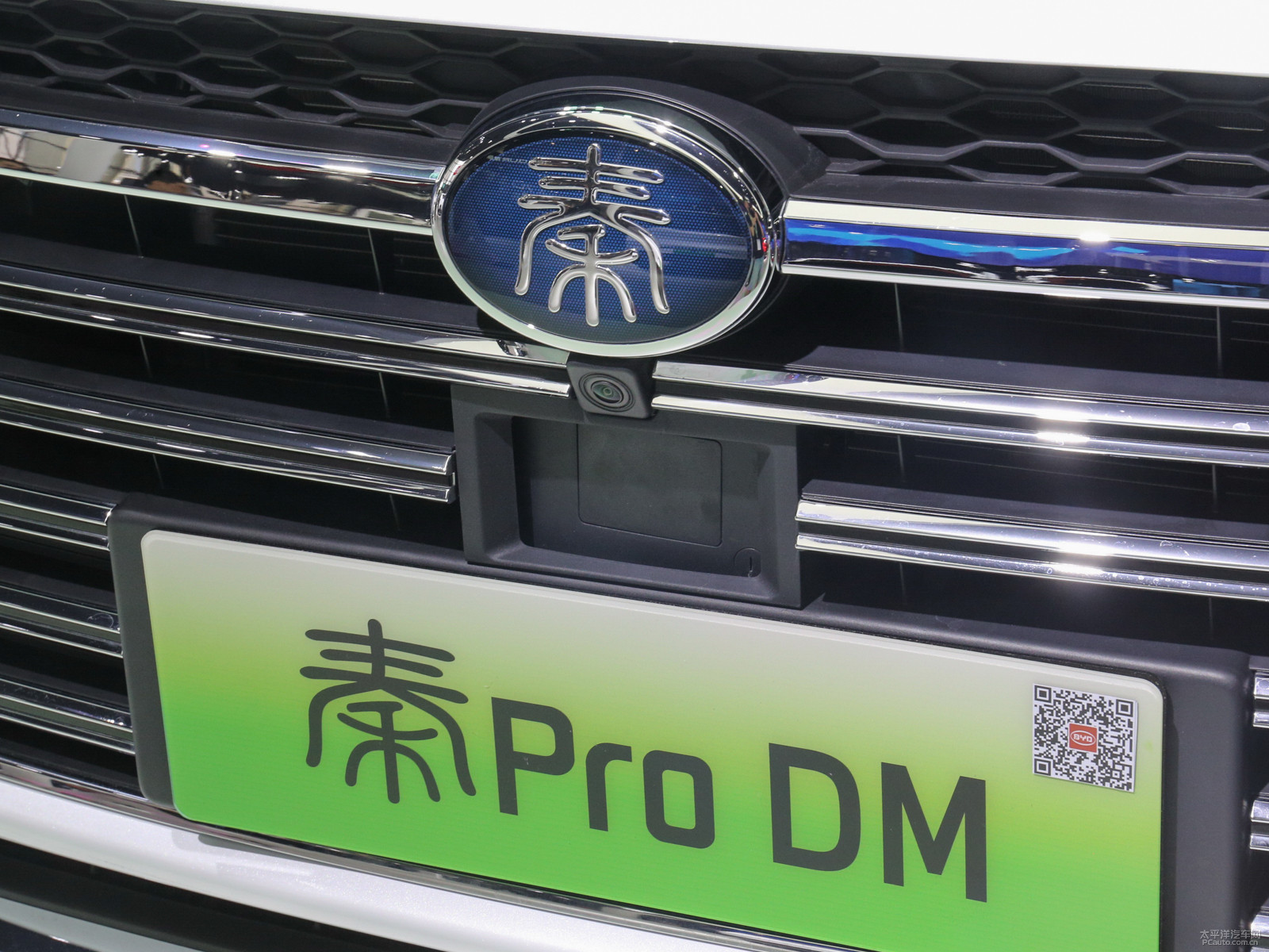BYD Qin: (434, 110, 775, 356)
